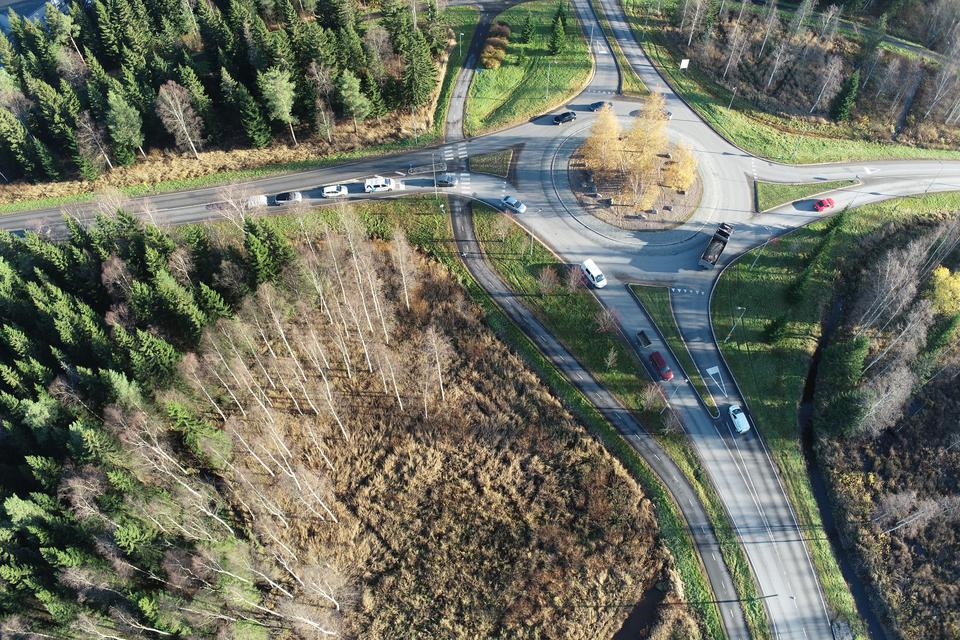intersection: (430, 116, 488, 226)
roundabout: (505, 35, 854, 334)
